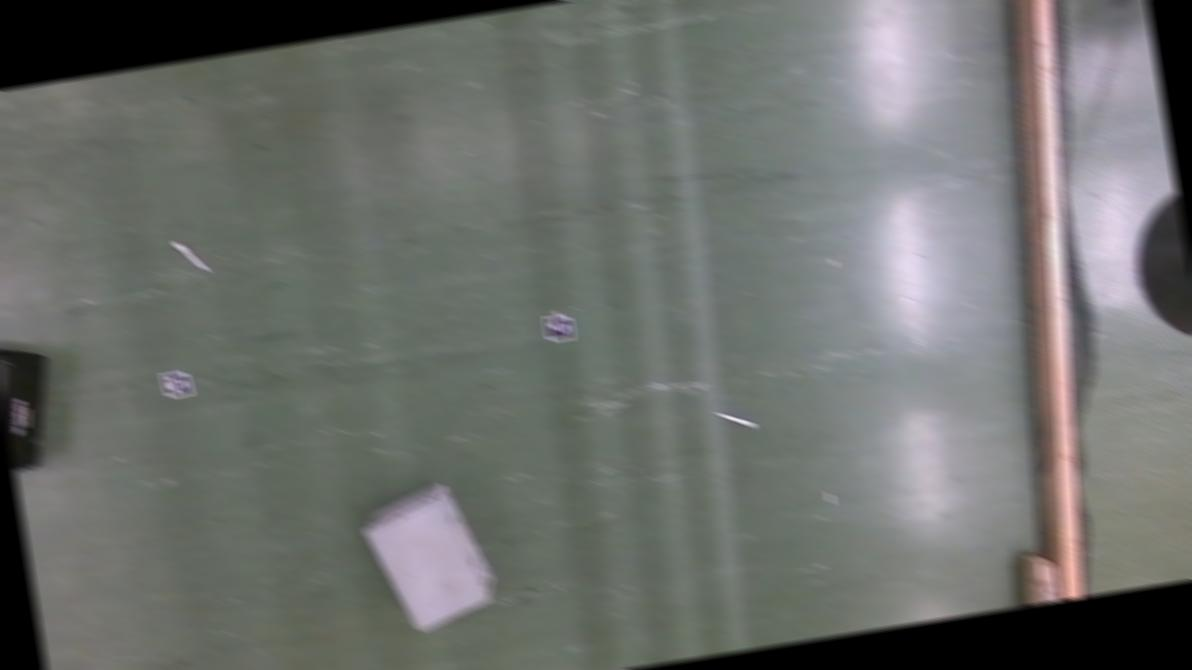probes: (174, 236, 210, 274), (719, 406, 757, 432)
rako: (358, 474, 500, 636), (0, 330, 62, 475)
